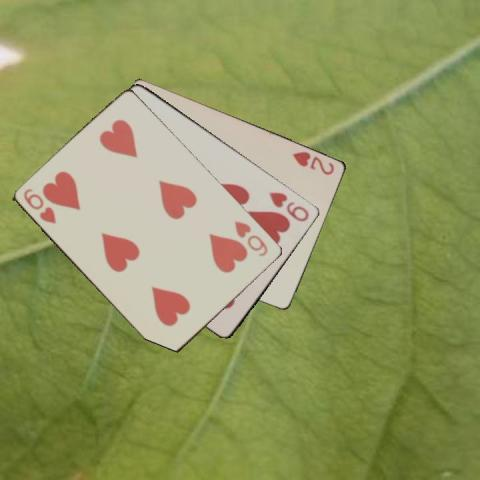2h: (289, 148, 336, 177)
6h: (231, 218, 270, 258), (21, 185, 58, 226)
9h: (267, 189, 310, 223)
